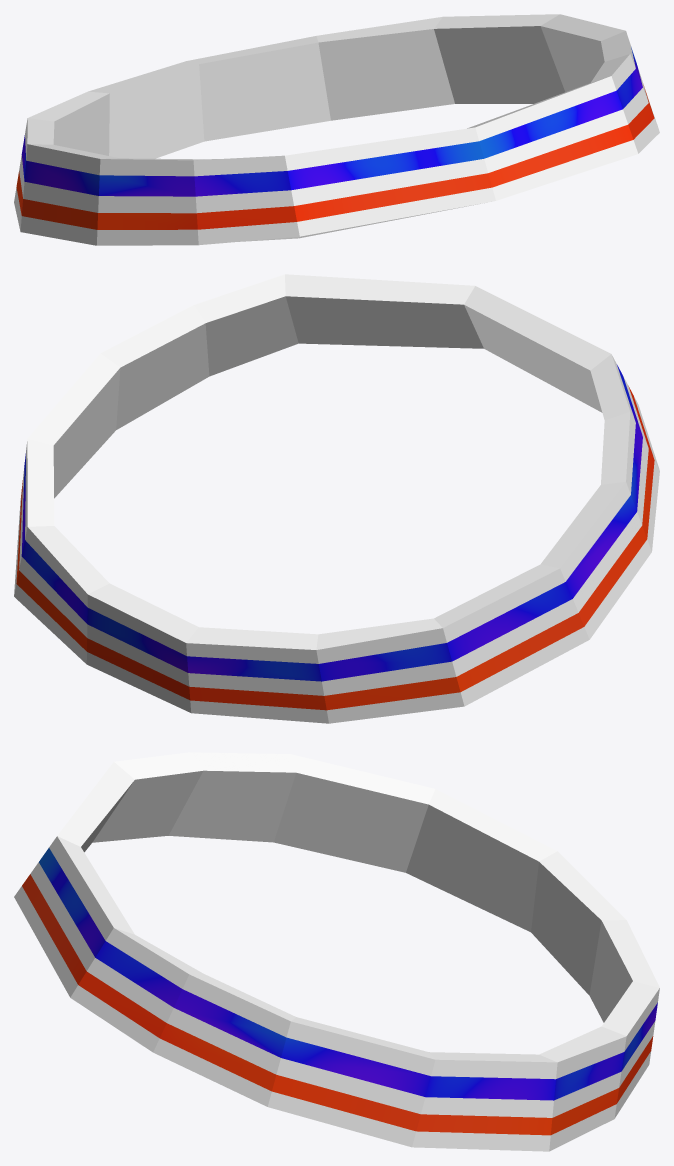
Rendered from sweatband.fbx.
The picture shows the model from 3 angles, top to bottom: view 1: azimuth 30°, elevation 25°; view 2: azimuth 150°, elevation 25°; view 3: azimuth 270°, elevation 25°; orthographic projection. The views are drawn at different scales.
Visible parts, largest first — view 1: sweatband; view 2: sweatband; view 3: sweatband.
Boxes of the visible parts, x1,y1,x2,y2 form: sweatband: (14,14,659,245); sweatband: (14,274,659,723); sweatband: (14,752,659,1151).
Size of the model in its own units: 26.05 by 9.59 by 24.57.
